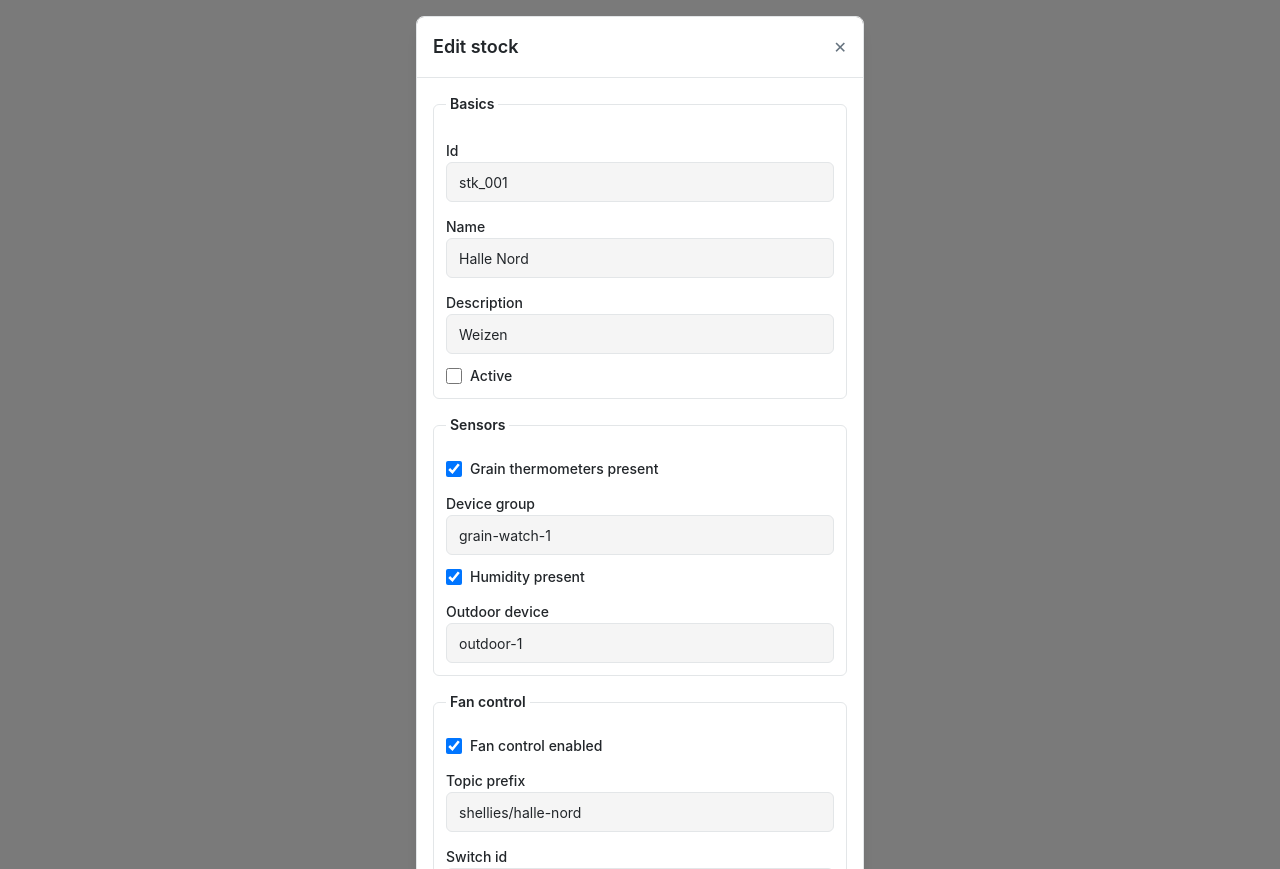
Scenario: StockFormDialog withdrawal warning › warns that the fan must be checked on site when fan control is withdrawn
Click the checkbox labelled "Fan control enabled" at (454, 746), box [446, 738, 462, 754]
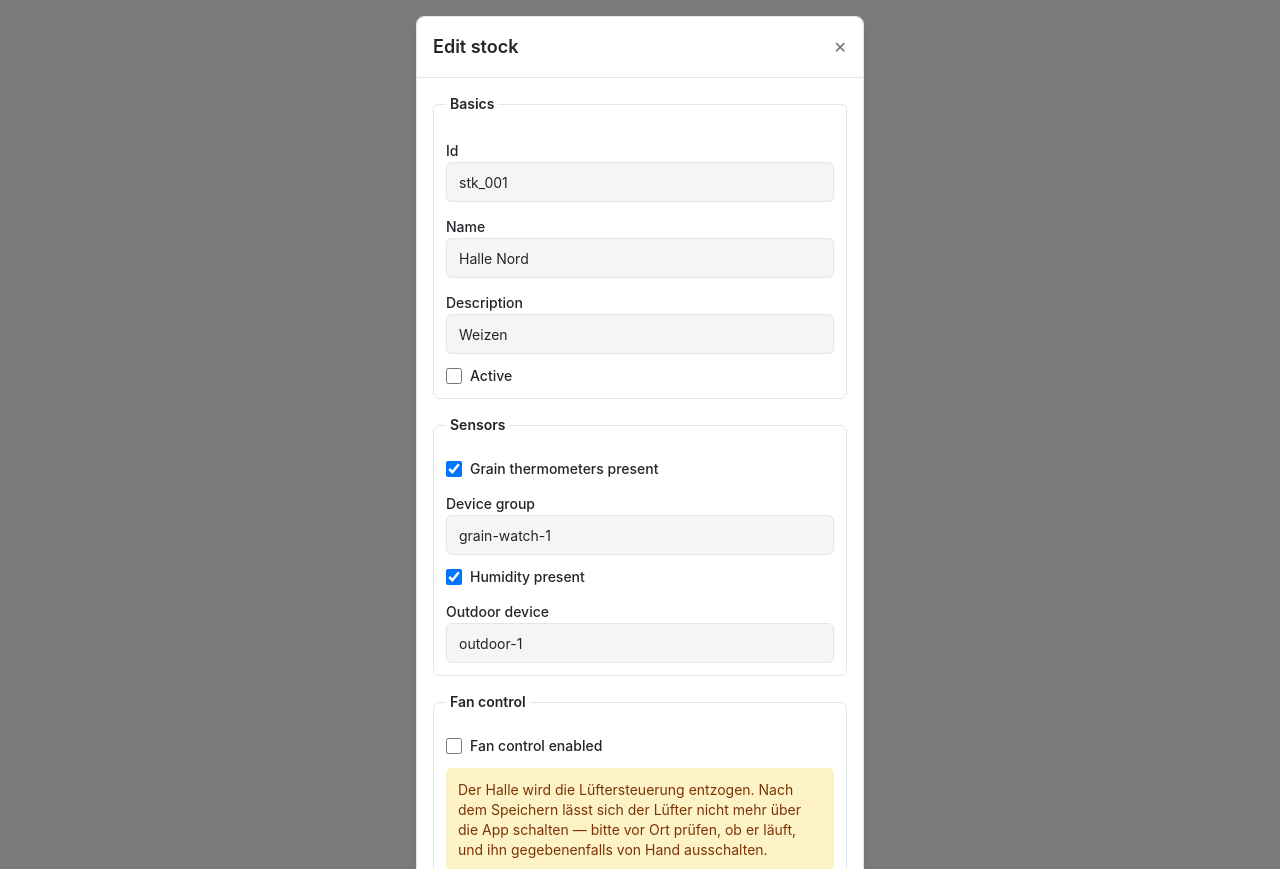
expect the text "vor Ort" is shown: met, box [458, 781, 801, 858]
